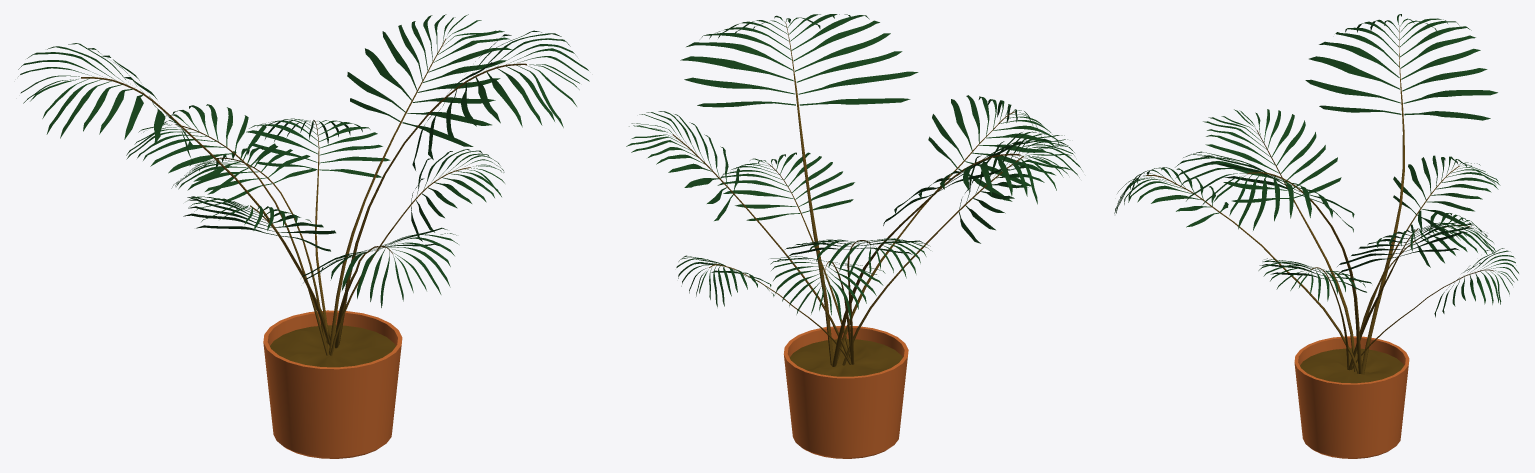
Rendered from Yaja_lv02.fbx.
3 views of the same model, side by side, from view 1: azimuth 30°, elevation 25°; view 2: azimuth 150°, elevation 25°; view 3: azimuth 270°, elevation 25° (orthographic). The views are drawn at different scales.
Visible parts, largest first — view 1: yaja_lv2_polySurface1; view 2: yaja_lv2_polySurface1; view 3: yaja_lv2_polySurface1.
Boxes of the visible parts, x1,y1,x2,y2 form: yaja_lv2_polySurface1: (18, 14, 589, 458); yaja_lv2_polySurface1: (626, 14, 1082, 458); yaja_lv2_polySurface1: (1114, 14, 1518, 458).
Bounding box in the file's own units: 94.2 × 73.78 × 83.54.
